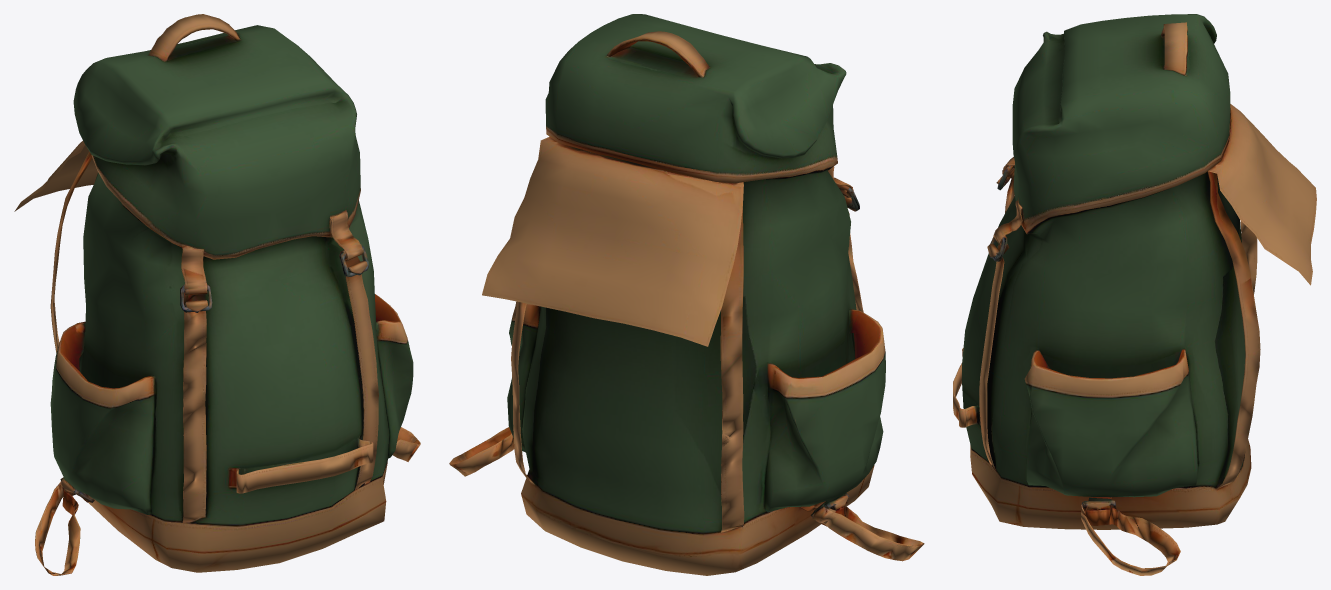
The model's file is Green And Brown Backpack.glb.
3 views of the same model, side by side, from view 1: azimuth 30°, elevation 25°; view 2: azimuth 150°, elevation 25°; view 3: azimuth 270°, elevation 25° (orthographic). The views are drawn at different scales.
Visible parts, largest first — view 1: pb_node; view 2: pb_node; view 3: pb_node.
Boxes of the visible parts, x1,y1,x2,y2 form: pb_node: (14, 14, 420, 575); pb_node: (449, 14, 924, 575); pb_node: (953, 14, 1316, 575).
Size of the model in its own units: 0.8809 by 0.998 by 0.7051.
1 material, 1 textured.
